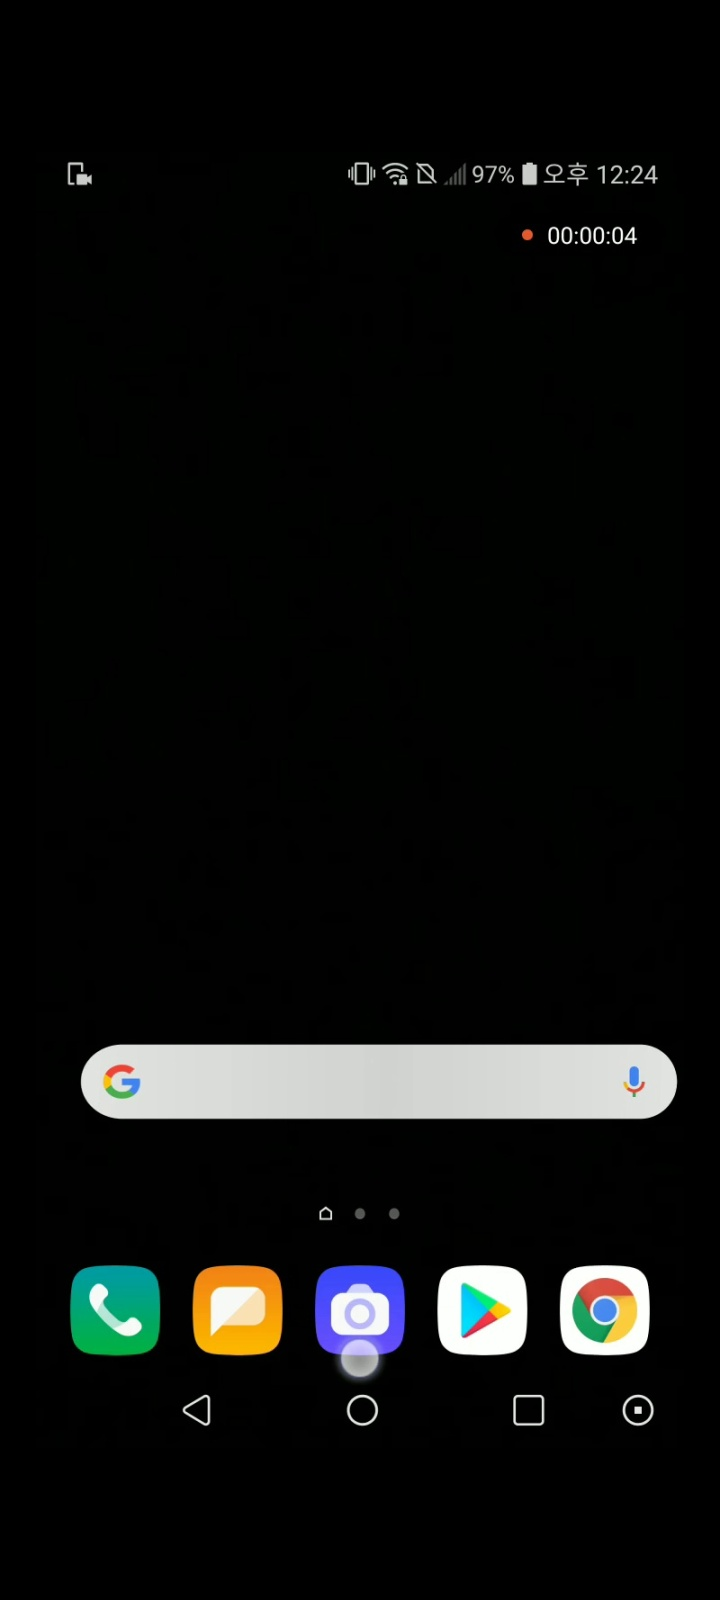Cursor: (336, 1336, 381, 1381)
